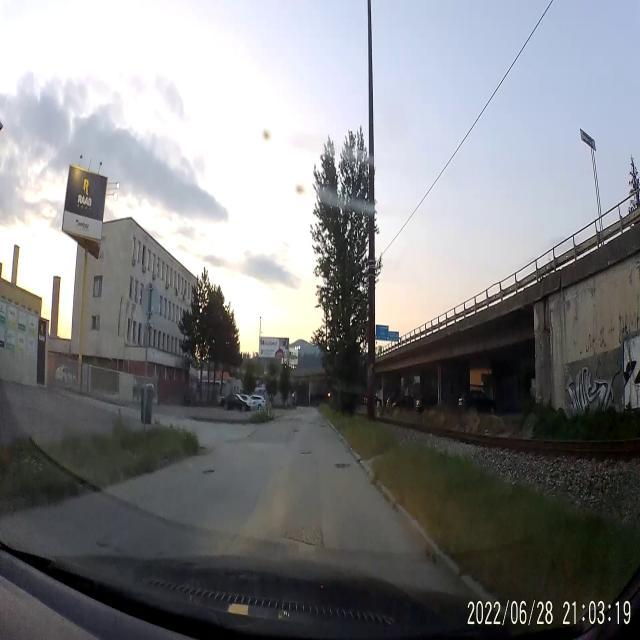Manhole: (334, 458, 352, 472)
Pothole: (284, 522, 326, 550), (201, 465, 219, 480), (300, 446, 314, 462)
